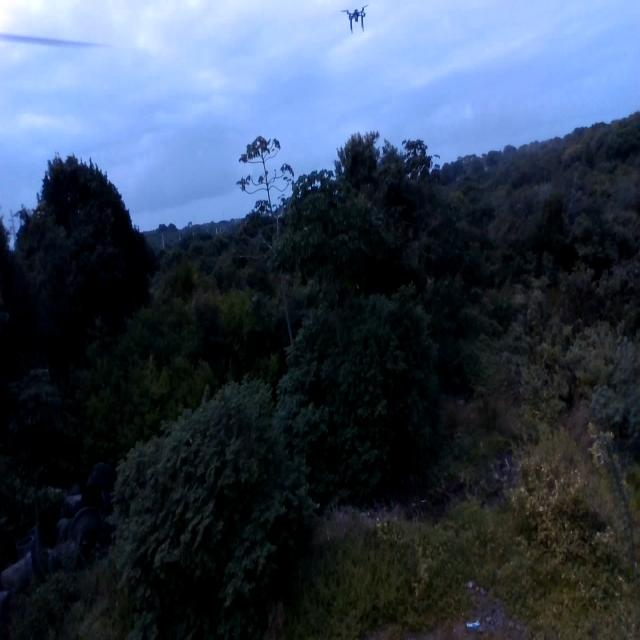-uav-: (341, 1, 376, 40)
